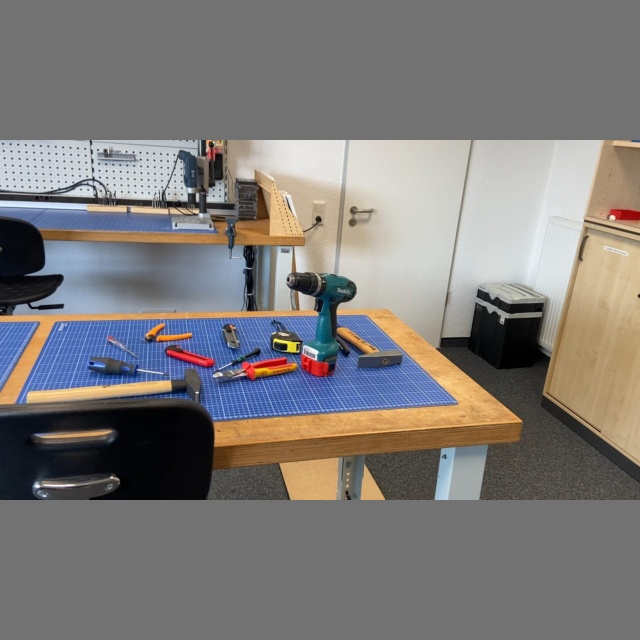drill: (284, 270, 359, 379)
screwdriver: (85, 355, 171, 379), (213, 346, 262, 373), (106, 334, 141, 360)
